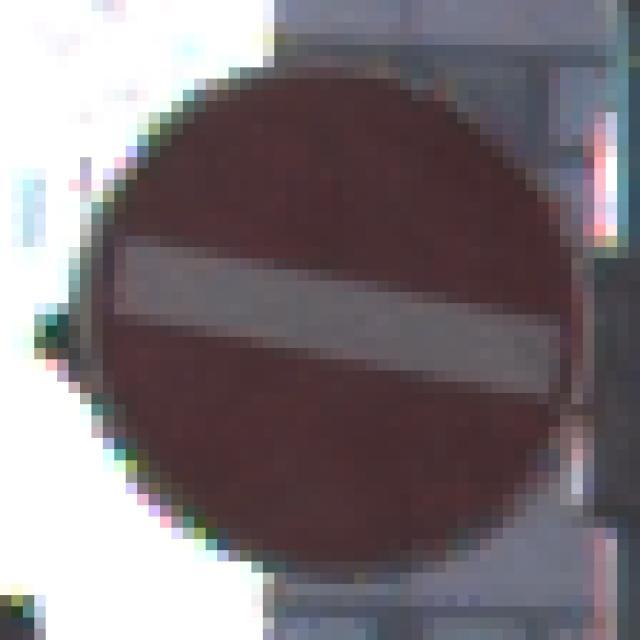no entry: (58, 56, 579, 580)
